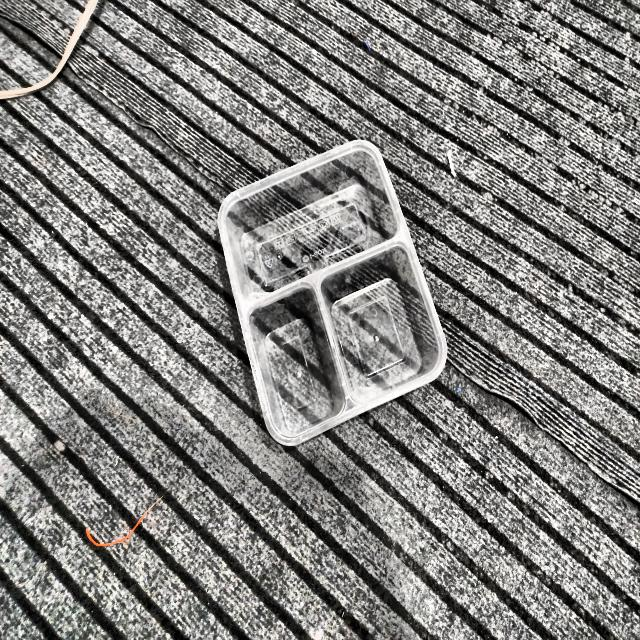plastic container: (218, 140, 446, 445)
